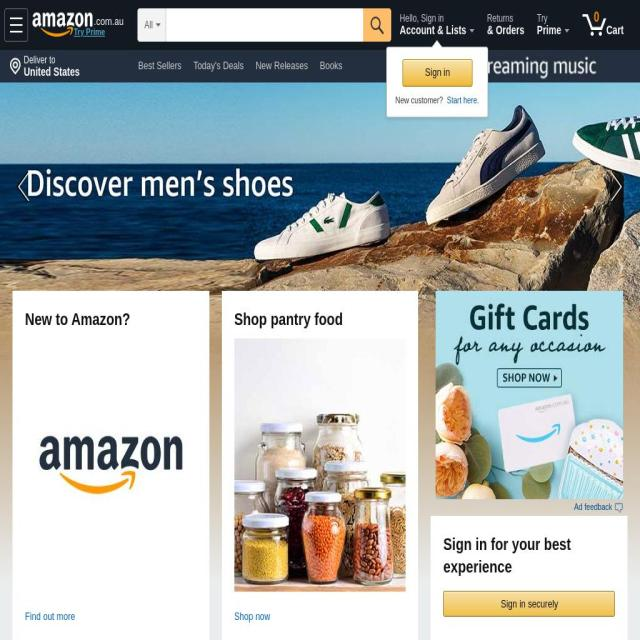button: (25, 338, 197, 592), (234, 338, 406, 592), (0, 82, 50, 291), (590, 82, 640, 291), (390, 50, 640, 82), (443, 591, 616, 617), (33, 4, 133, 46), (444, 592, 615, 616), (394, 5, 481, 47), (25, 608, 197, 624), (234, 608, 406, 624), (576, 5, 638, 47), (7, 51, 87, 83), (5, 8, 90, 38), (481, 5, 531, 47), (402, 59, 473, 87), (531, 5, 575, 47), (232, 92, 306, 113), (250, 55, 313, 77), (188, 55, 249, 77), (133, 55, 187, 77), (133, 128, 183, 150), (184, 128, 232, 150), (133, 92, 183, 113), (184, 92, 230, 113), (4, 8, 28, 42), (314, 55, 348, 77), (308, 92, 340, 113), (574, 502, 623, 513), (233, 128, 257, 150), (74, 28, 105, 36)
field: (166, 9, 363, 41), (362, 8, 392, 42)
heading: (443, 532, 616, 578), (25, 308, 197, 330), (234, 308, 406, 330)
iframe: (435, 291, 623, 499)
image: (24, 338, 197, 592), (234, 338, 406, 592), (390, 50, 640, 82), (33, 12, 93, 38), (582, 14, 606, 36), (8, 57, 22, 76), (10, 18, 22, 32), (614, 502, 623, 512)
link: (14, 165, 36, 208), (604, 165, 626, 208), (447, 95, 480, 105)
text: (402, 60, 472, 85), (24, 66, 87, 82), (399, 23, 467, 37), (487, 24, 531, 41), (399, 13, 450, 24), (395, 95, 445, 105), (23, 54, 62, 66), (574, 502, 614, 512), (487, 13, 519, 24), (537, 23, 562, 37), (94, 16, 123, 27), (144, 12, 154, 39), (606, 23, 624, 37), (370, 17, 384, 34), (537, 13, 553, 24)
